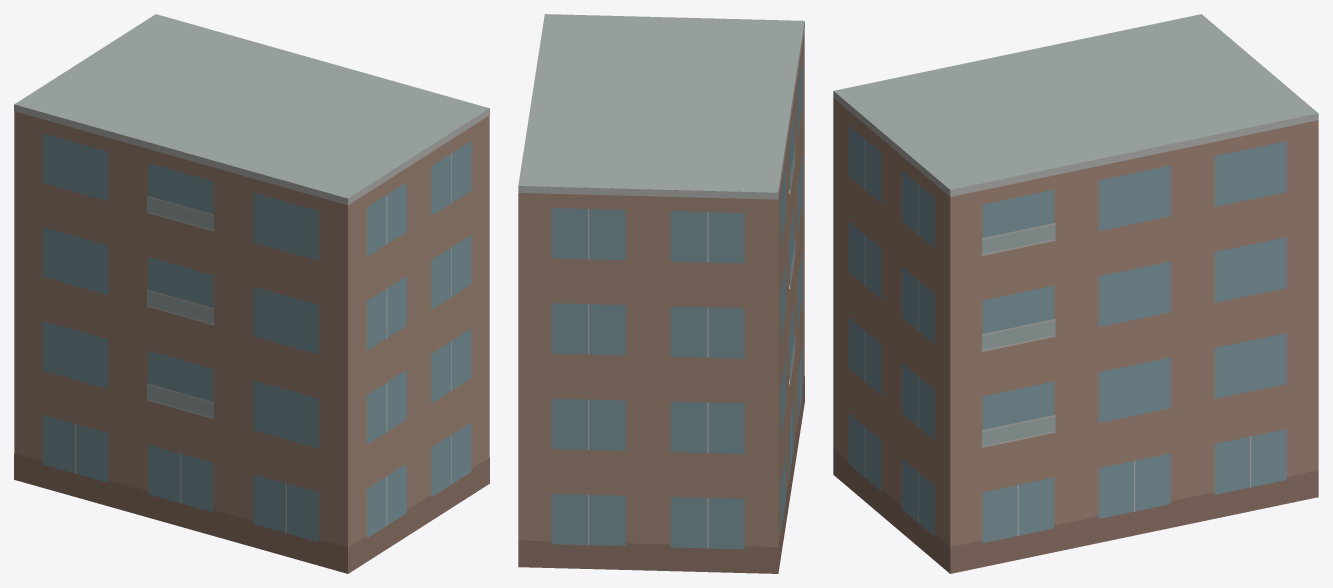
Rendered from survey-upis-32929865.glb.
3 views of the same model, side by side, from view 1: azimuth 30°, elevation 25°; view 2: azimuth 150°, elevation 25°; view 3: azimuth 270°, elevation 25° (orthographic). The views are drawn at different scales.
Visible parts, largest first — view 1: survey-upis-32929865.tmp; view 2: survey-upis-32929865.tmp; view 3: survey-upis-32929865.tmp.
Boxes of the visible parts, x1=… form: survey-upis-32929865.tmp: x1=14, y1=14, x2=489, y2=573; survey-upis-32929865.tmp: x1=518, y1=14, x2=804, y2=573; survey-upis-32929865.tmp: x1=833, y1=14, x2=1318, y2=573.
Bounding box in the file's own units: 13.24 × 13.45 × 15.42.
